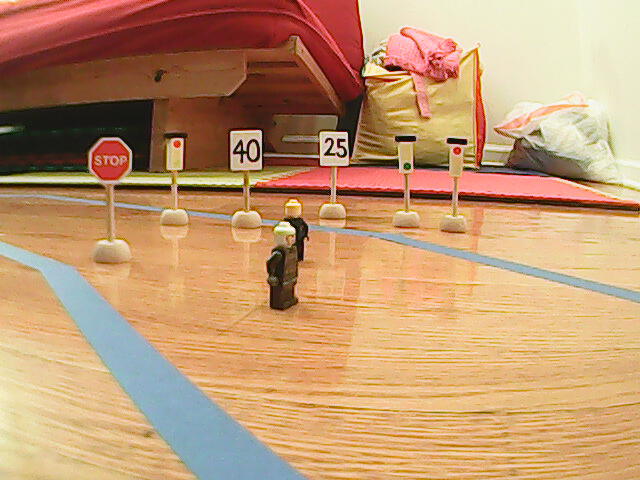Green Traffic Light: (395, 134, 417, 175)
Person: (267, 224, 300, 310), (283, 200, 310, 261)
Red Traffic Light: (164, 132, 187, 177), (444, 139, 469, 179)
Speed Limit 25: (319, 130, 348, 168)
Speed Limit 40: (227, 128, 264, 173)
Stop Sign: (88, 137, 135, 182)
